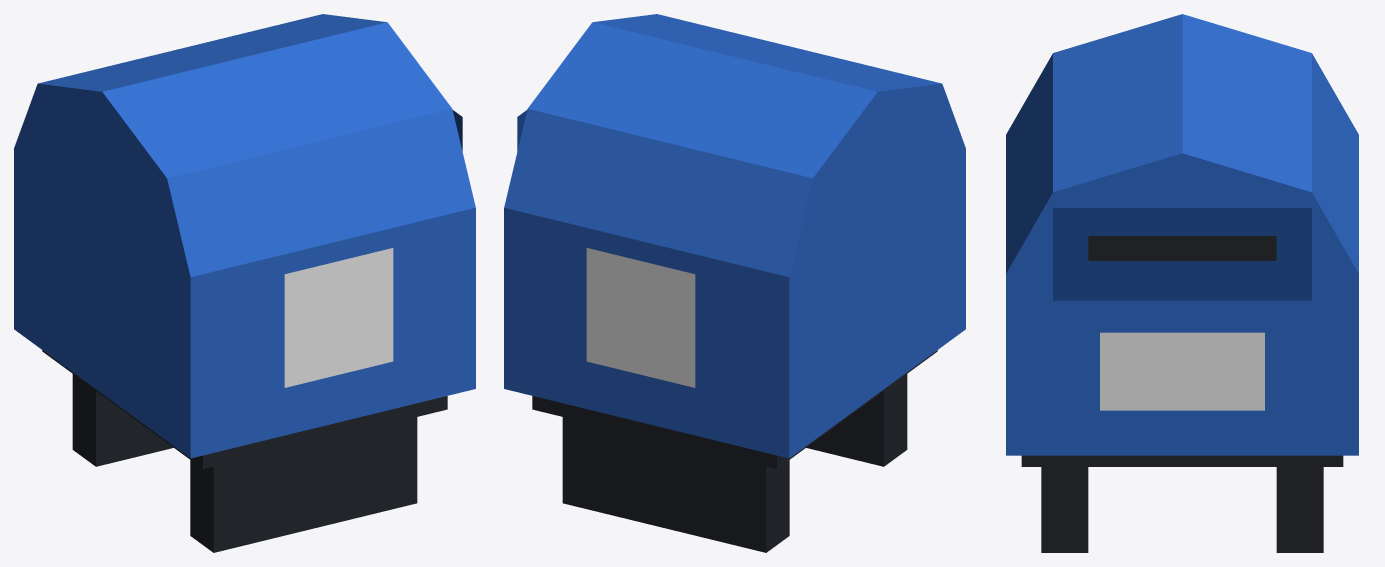
The model's file is mailbox.glb.
3 renders of one model, left to right at view 1: azimuth 30°, elevation 25°; view 2: azimuth 150°, elevation 25°; view 3: azimuth 270°, elevation 25°, orthographic.
Visible parts, largest first — view 1: mailbox; view 2: mailbox; view 3: mailbox.
Boxes of the visible parts, box(x1,y1,x2,y2) form: mailbox: box(14, 14, 475, 552); mailbox: box(504, 14, 965, 552); mailbox: box(1006, 14, 1358, 552).
Size of the model in its own units: 0.09 by 0.118 by 0.096.
